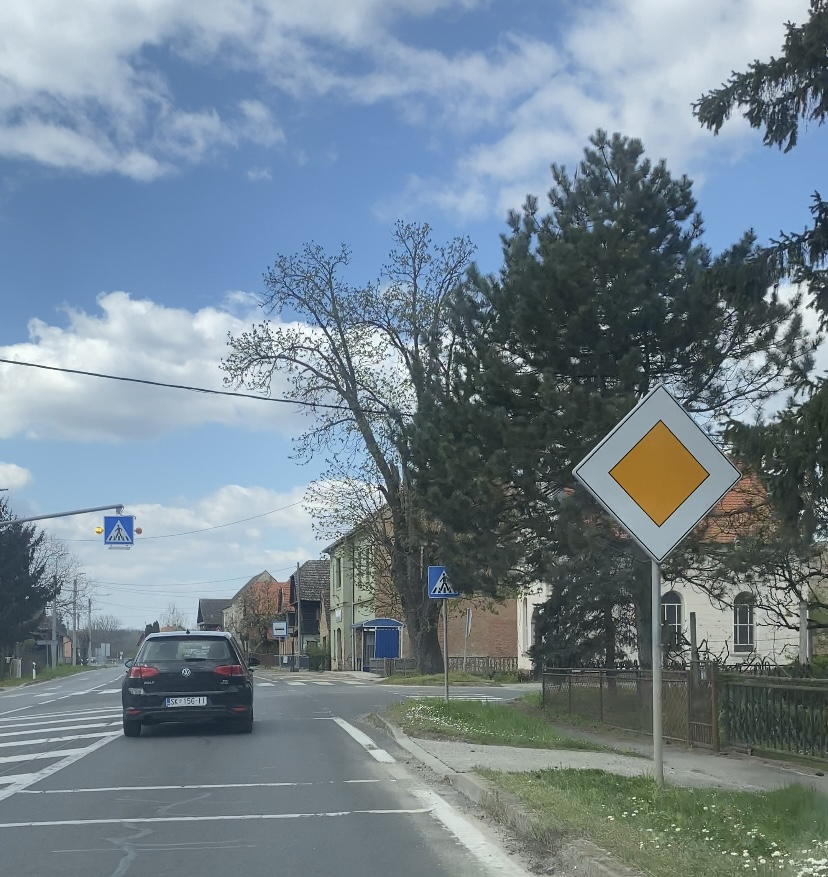Cesta s prednošću prolaska: (571, 382, 744, 566)
Pješački prijelaz: (104, 516, 133, 544)
